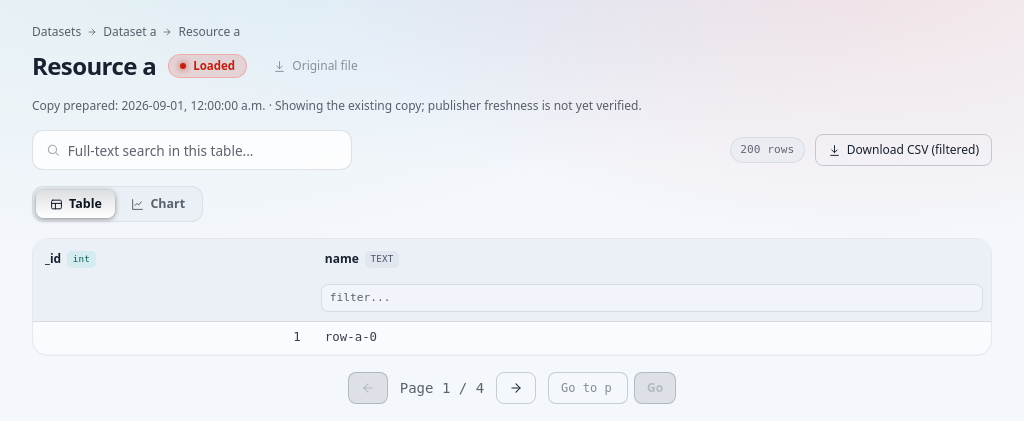
Scenario: ResourcePage table frame and page box › the page box jumps to a page, clamps to the last page and serves a seen page again at once
The width and height of the screenshot is (1024, 421).
Check: the text "row-a-0" is shown, box x1=313 y1=322 x2=991 y2=355
Check: the button "Go" is disabled, box x1=634 y1=372 x2=676 y2=404
Type "3" into the number field labelled "Go to page" at (588, 388), box x1=548 y1=372 x2=628 y2=404
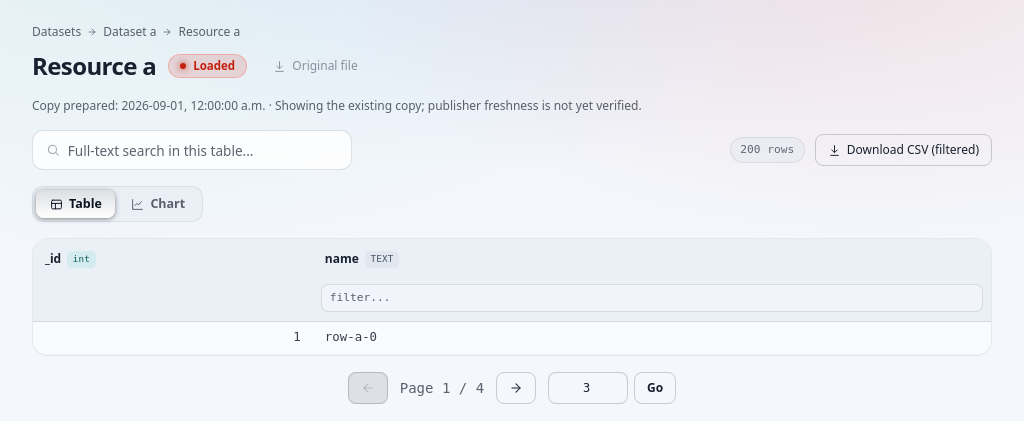
Click the button "Go" at (655, 388), box x1=634 y1=372 x2=676 y2=404
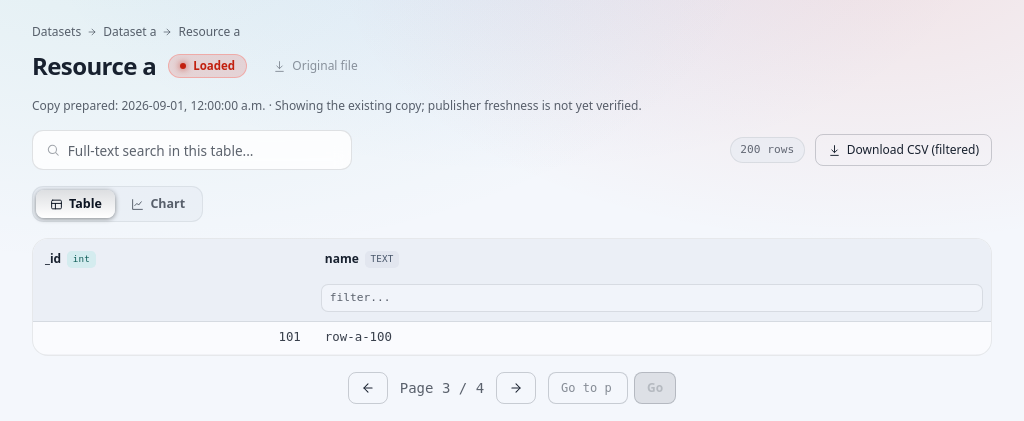
Check: the text "row-a-100" is shown, box x1=313 y1=322 x2=991 y2=355
Check: the text "Page 3 / 4" is shown, box x1=400 y1=378 x2=484 y2=398
Check: the number field labelled "Go to page" is not empty
Type "9" into the number field labelled "Go to page" at (588, 388), box x1=548 y1=372 x2=628 y2=404
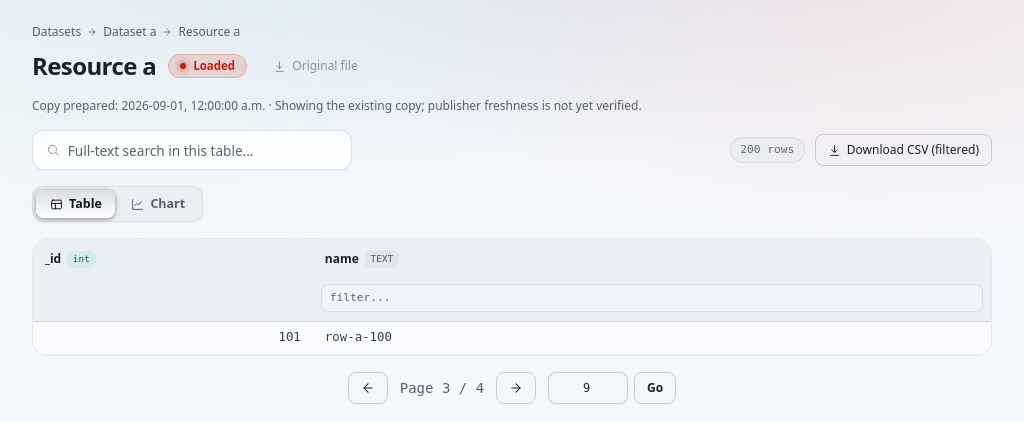
Click the button "Go" at (655, 388), box x1=634 y1=372 x2=676 y2=404
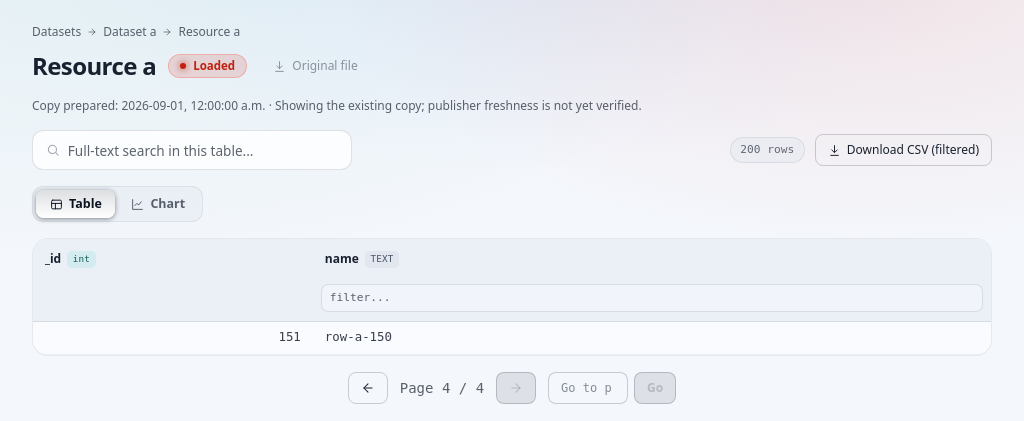
Check: the text "row-a-150" is shown, box x1=313 y1=322 x2=991 y2=355
Check: the text "Page 4 / 4" is shown, box x1=400 y1=378 x2=484 y2=398
Check: the button named "Next page" is disabled, box x1=496 y1=372 x2=536 y2=404
Type "3" into the number field labelled "Go to page" at (588, 388), box x1=548 y1=372 x2=628 y2=404
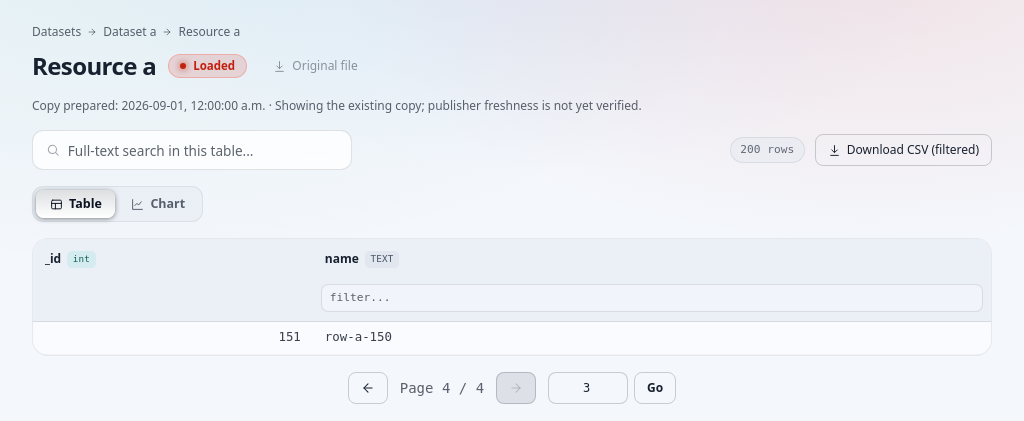
Click the button "Go" at (655, 388), box x1=634 y1=372 x2=676 y2=404
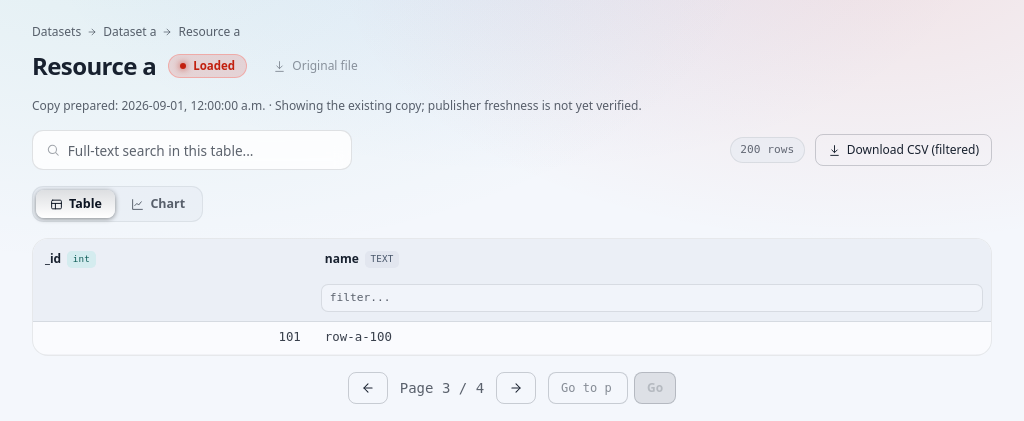
Check: the text "row-a-100" is shown, box x1=313 y1=322 x2=991 y2=355
